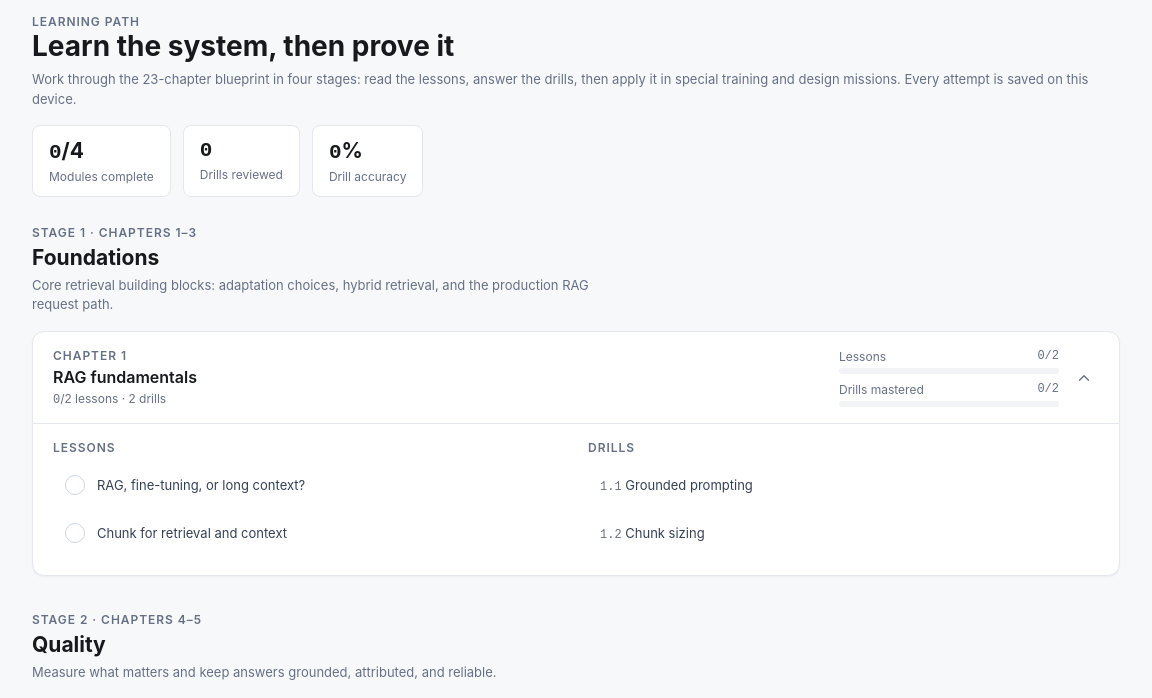
Scenario: PathPage › turns a mastered drill badge to Answered and advances the drill meter
Click the button "1.2 Chunk sizing" at [665, 533], box 588,511 -> 1099,555
(page scrolled)
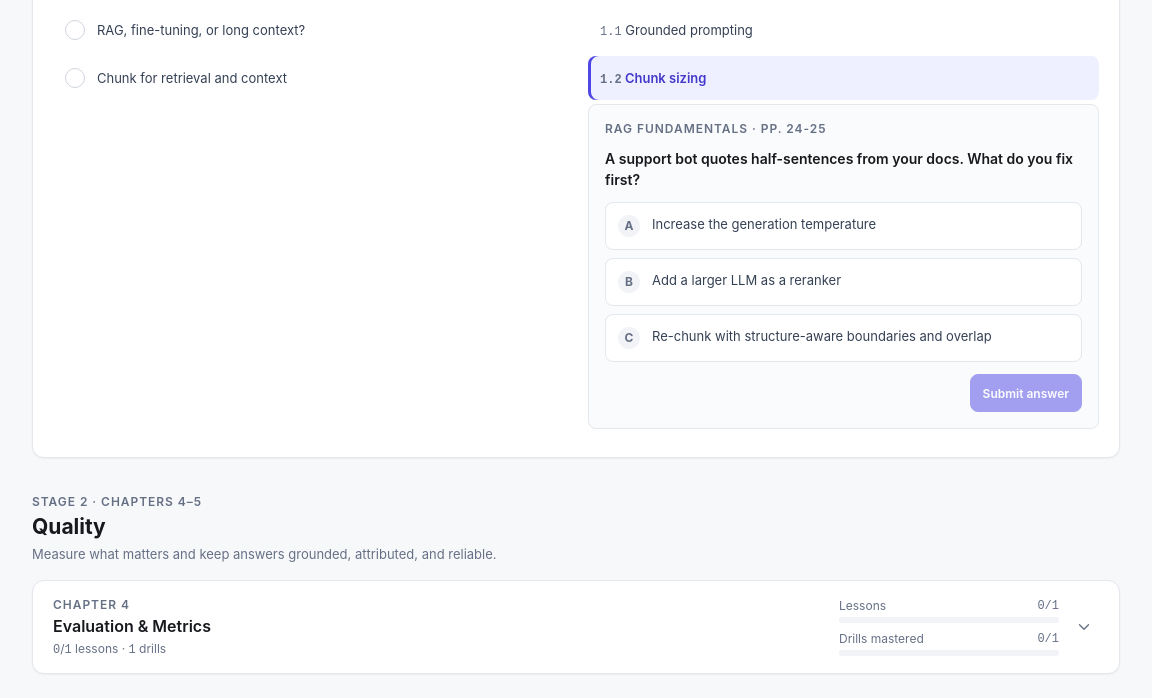
Click the button "C Re-chunk with structure-aware boundaries and overlap" at [844, 338], box 605,314 -> 1082,362
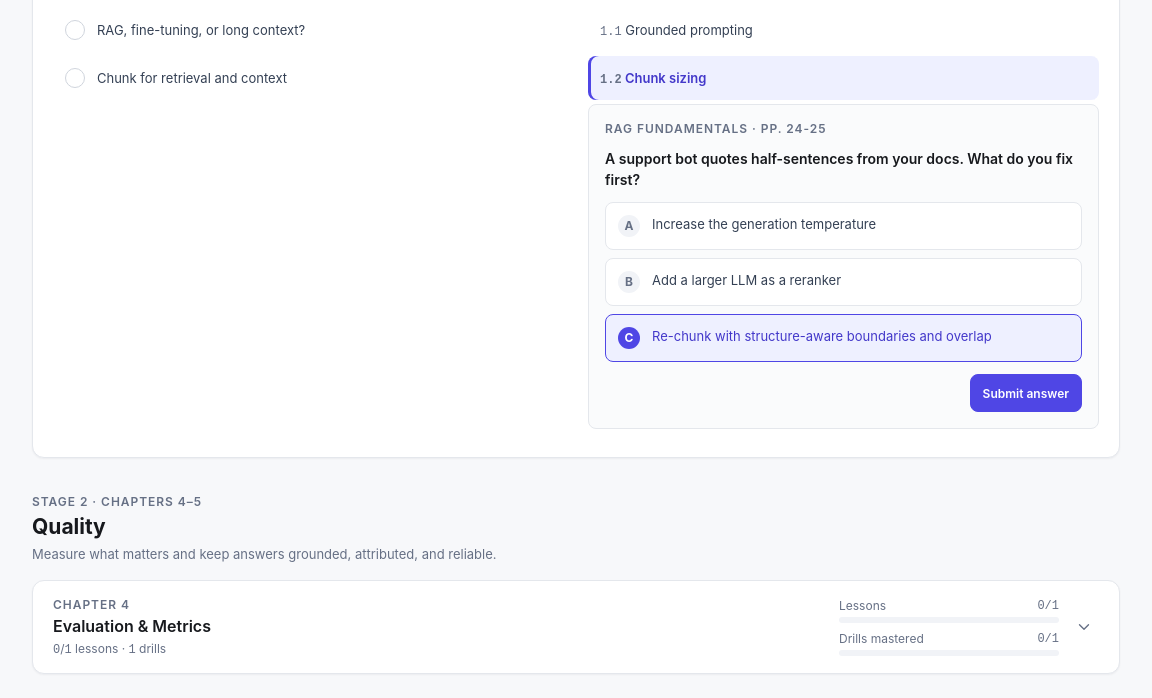
Click the button "Submit answer" at [1026, 393], box 970,374 -> 1082,412
(page scrolled)
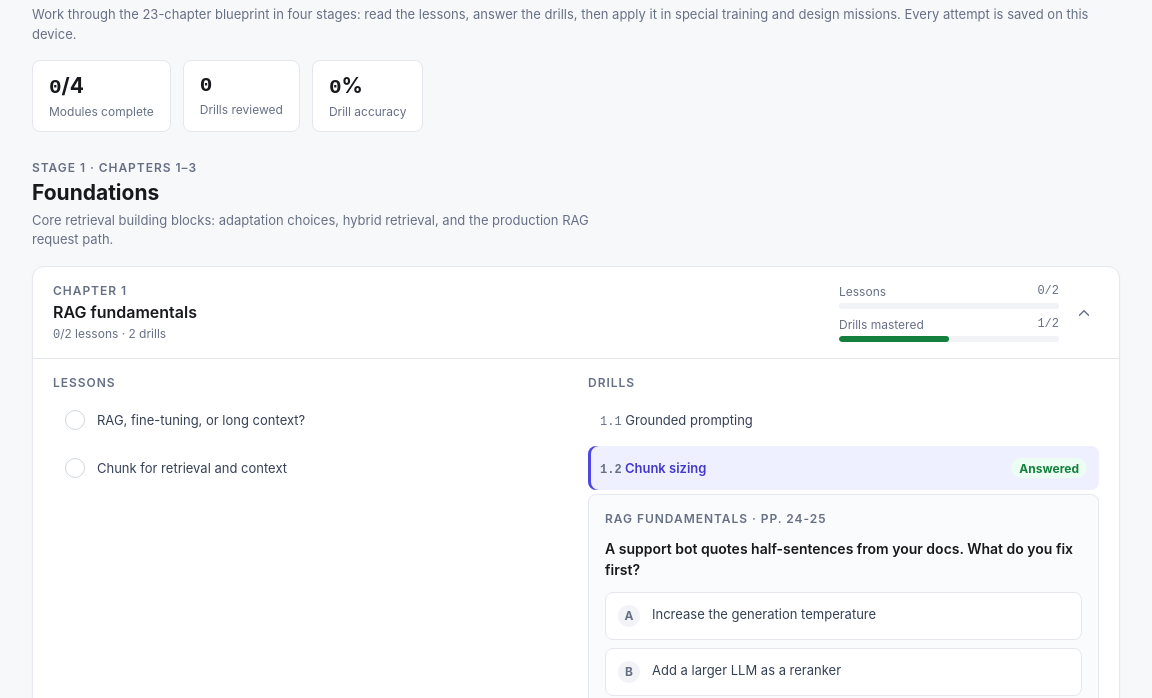
expect the button "1.2 Chunk sizing Answered" is shown: met, box 588,446 -> 1099,490
